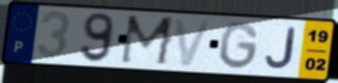3: (35, 9, 76, 62)
9: (78, 11, 117, 64)
G: (218, 20, 261, 72)
J: (263, 26, 298, 71)
M: (118, 14, 178, 68)
V: (172, 17, 215, 68)
